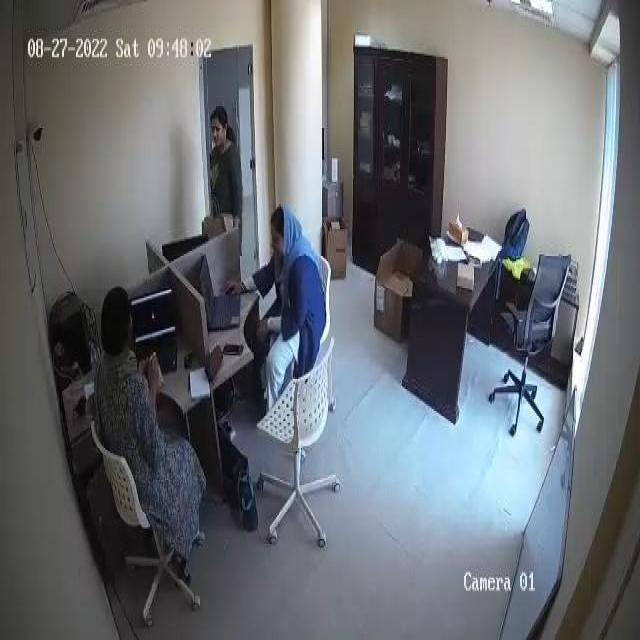bare_hand: (226, 266, 257, 312), (141, 357, 167, 404), (250, 308, 278, 349)
